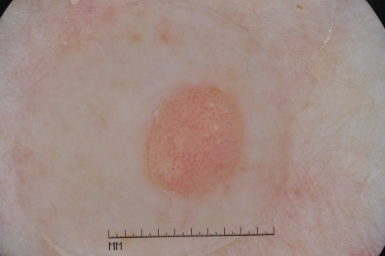seborrheic keratosis: (121, 65, 260, 213)
